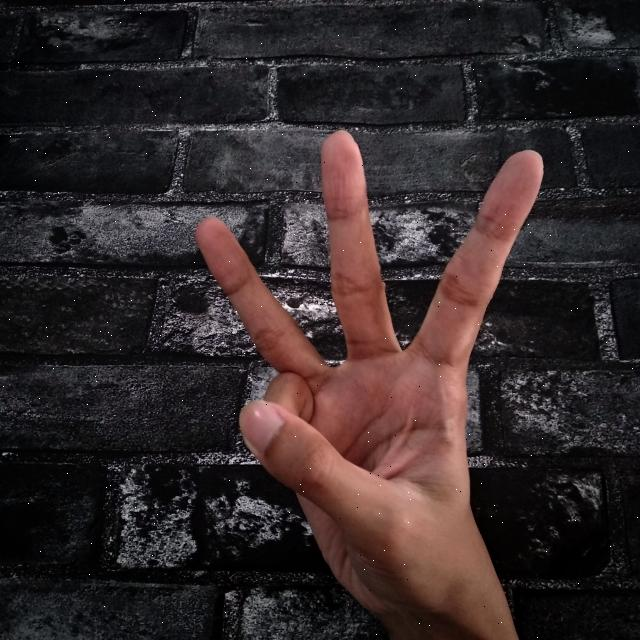W: (180, 121, 545, 640)
